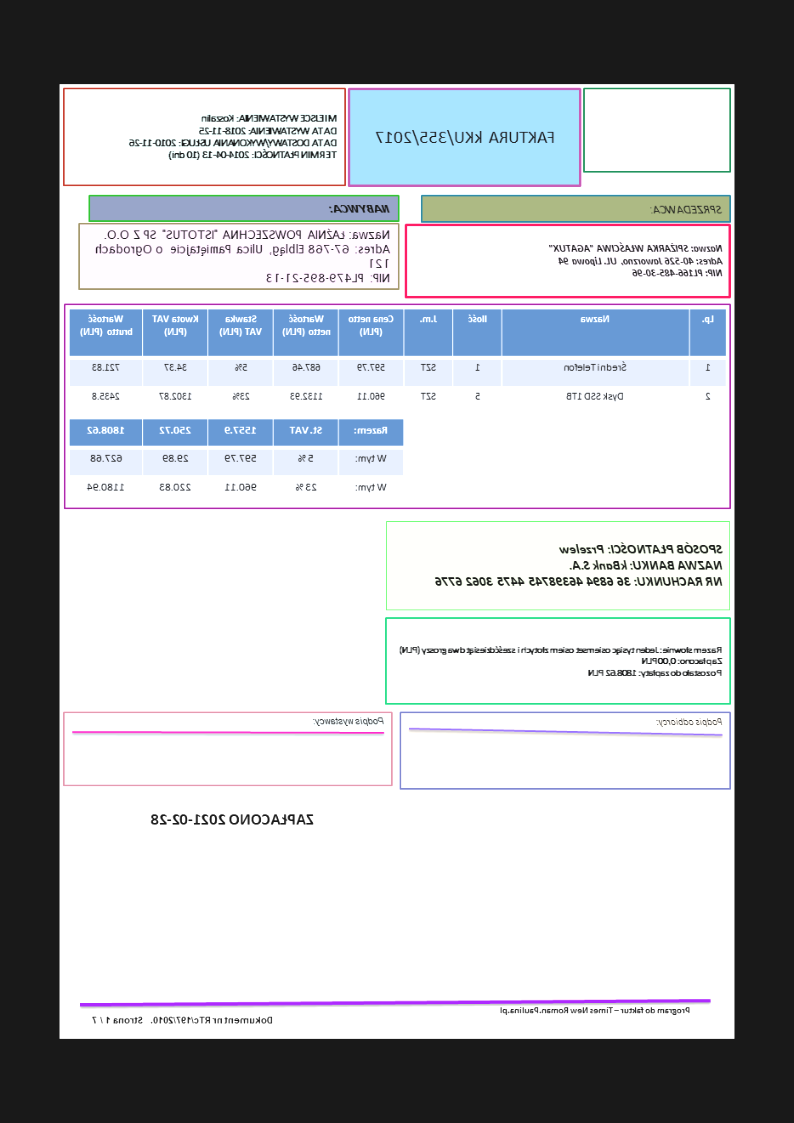Table: (69, 308, 728, 416), (67, 417, 405, 506)
TextBox: (94, 226, 394, 285), (434, 537, 726, 592), (395, 641, 724, 680), (128, 109, 339, 162), (547, 241, 725, 279), (374, 127, 557, 148), (149, 810, 315, 827), (88, 1012, 275, 1027), (497, 1004, 694, 1018), (649, 200, 725, 217), (310, 714, 386, 729), (655, 713, 725, 729), (327, 200, 392, 216)
